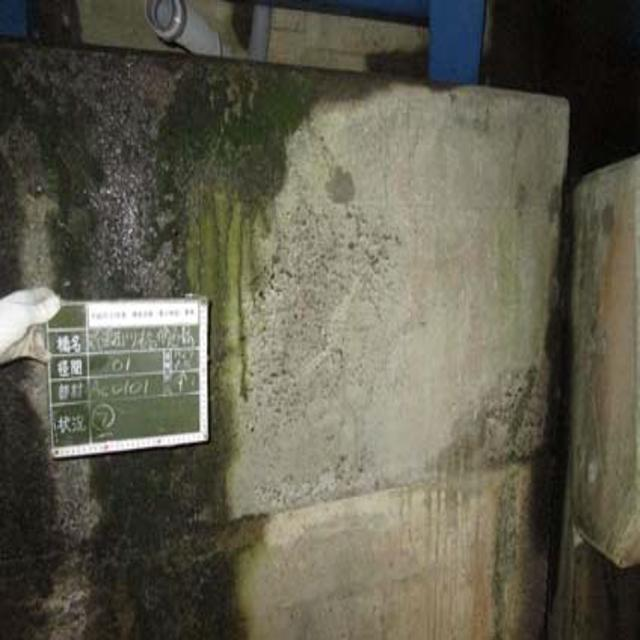leakage: (11, 31, 260, 640)
